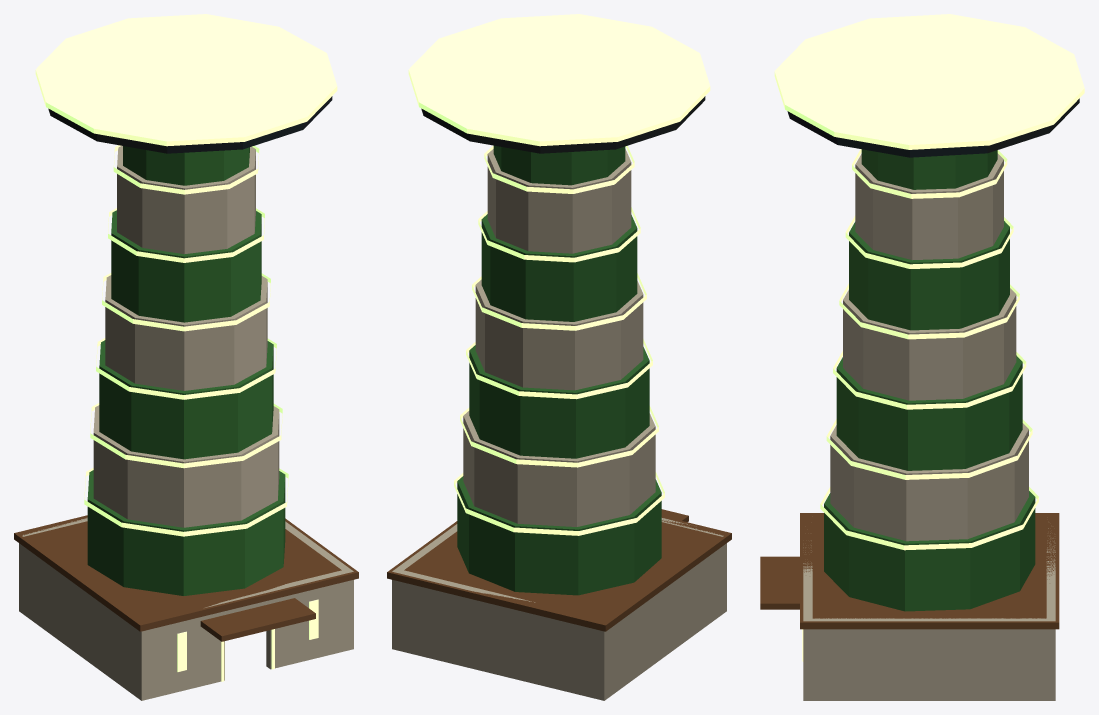
The model's file is shaddai_dist_meadow_b1_v01.glb.
3 renders of one model, left to right at view 1: azimuth 30°, elevation 25°; view 2: azimuth 150°, elevation 25°; view 3: azimuth 270°, elevation 25°, orthographic. The views are drawn at different scales.
Parts seen in each view (by area): view 1: shaddai_dist_meadow_b1; view 2: shaddai_dist_meadow_b1; view 3: shaddai_dist_meadow_b1.
Boxes of the visible parts, <box> form: shaddai_dist_meadow_b1: <box>14,14,358,700</box>; shaddai_dist_meadow_b1: <box>387,14,731,700</box>; shaddai_dist_meadow_b1: <box>760,14,1084,700</box>.
Size of the model in its own units: 17.21 by 34.78 by 18.01.
